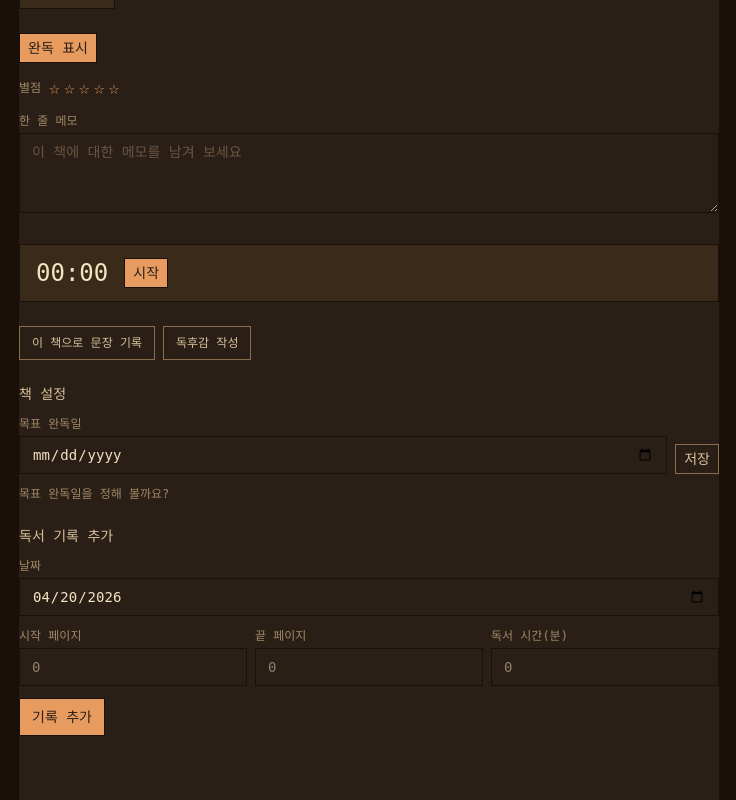
it: ReadingSessionForm › endPage < startPage 시 검증 에러를 표시한다
(page scrolled)
Type "100" into the number field labelled "시작 페이지" at (133, 667), box [19, 648, 247, 686]
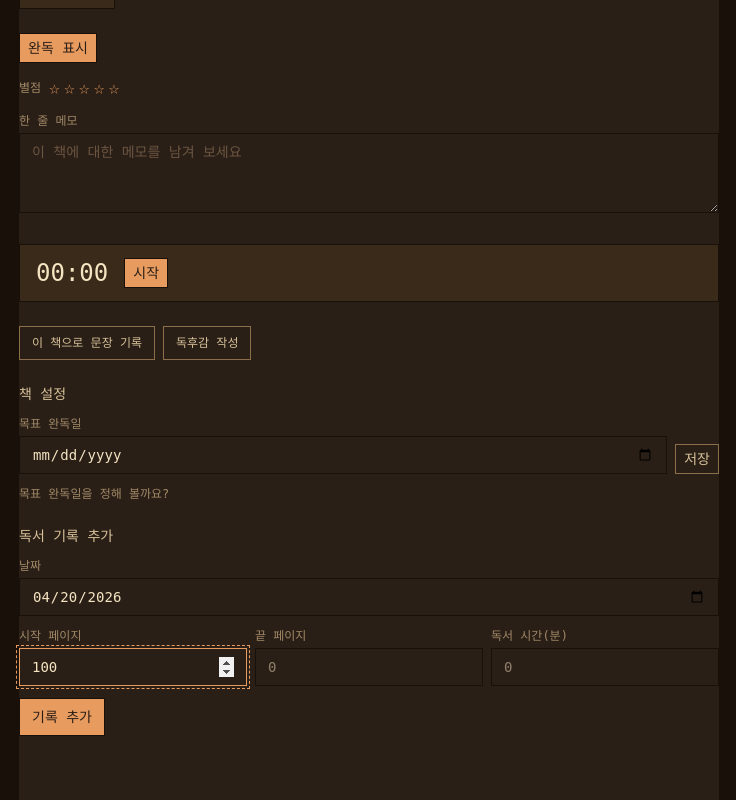
Type "50" into the number field labelled "끝 페이지" at (369, 667), box [255, 648, 483, 686]
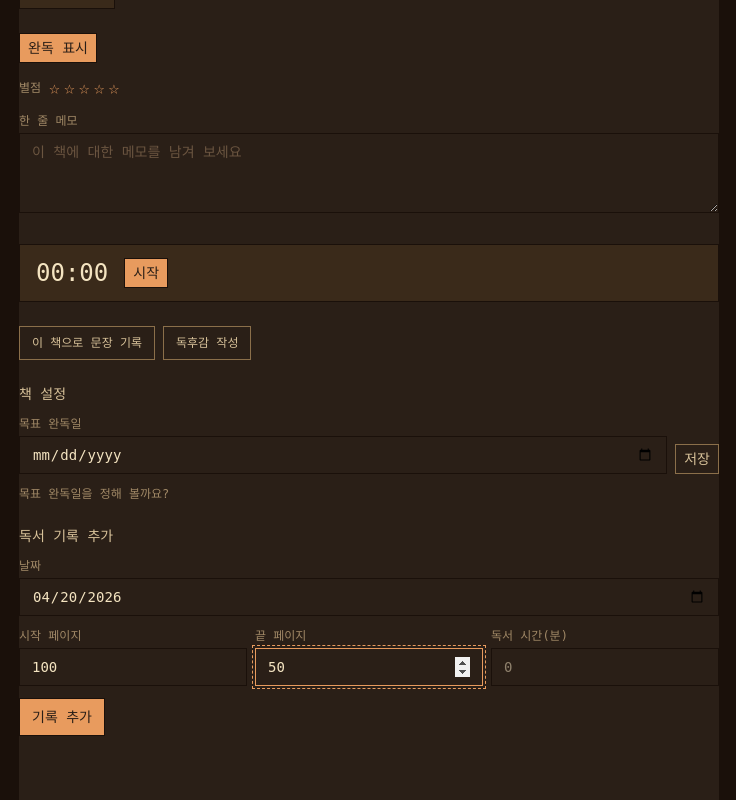
Click the button "기록 추가" at (62, 717), box [19, 698, 105, 736]
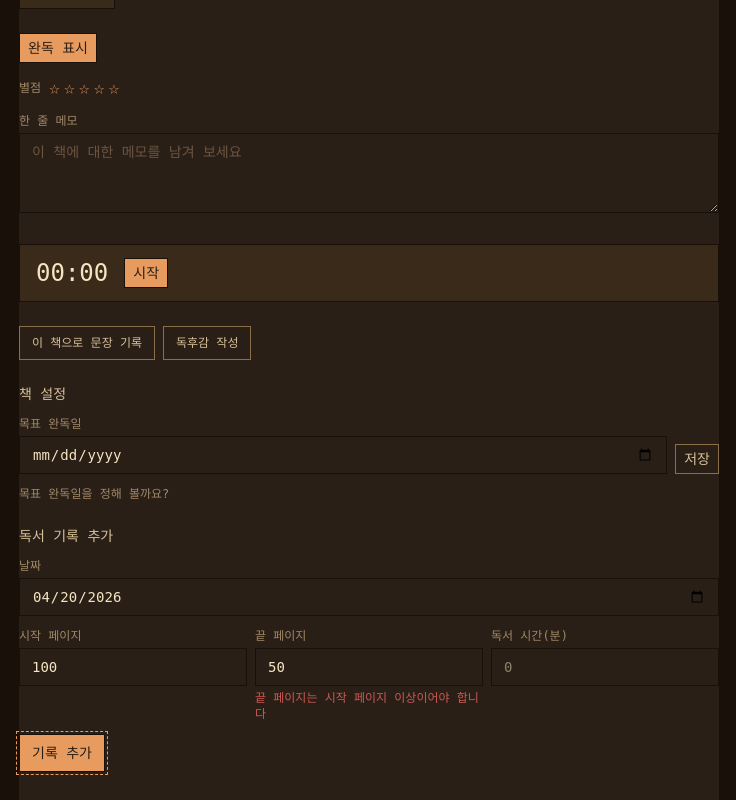
Expected: the text "끝 페이지는 시작 페이지 이상이어야 합니다" is shown, [255, 690, 483, 722]
